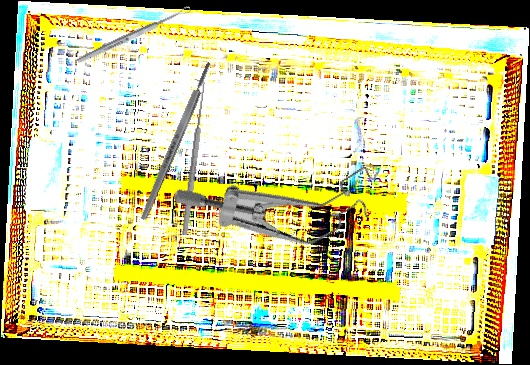Hook Surgical: (175, 79, 209, 236)
Scalpel Handle: (138, 60, 214, 222)
Speculum: (170, 102, 397, 295)
Surgical Spoon: (76, 5, 192, 65)
